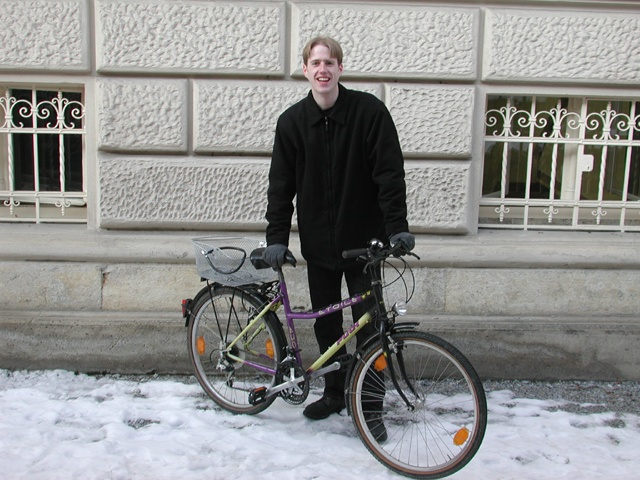person: (265, 29, 409, 443)
